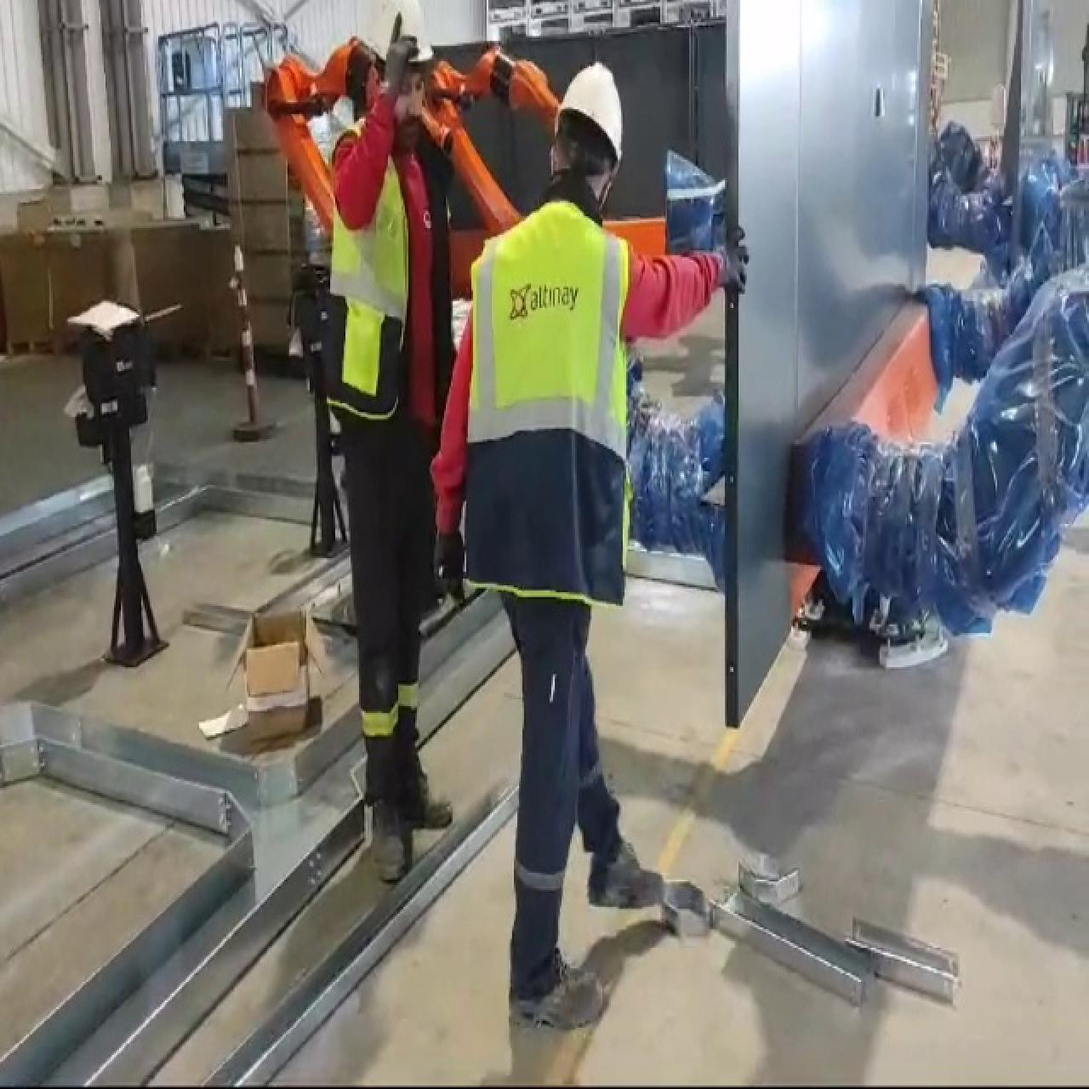Person: (430, 47, 716, 1053), (281, 0, 470, 895)
Safety_Vest: (447, 197, 665, 609), (313, 141, 460, 424)
